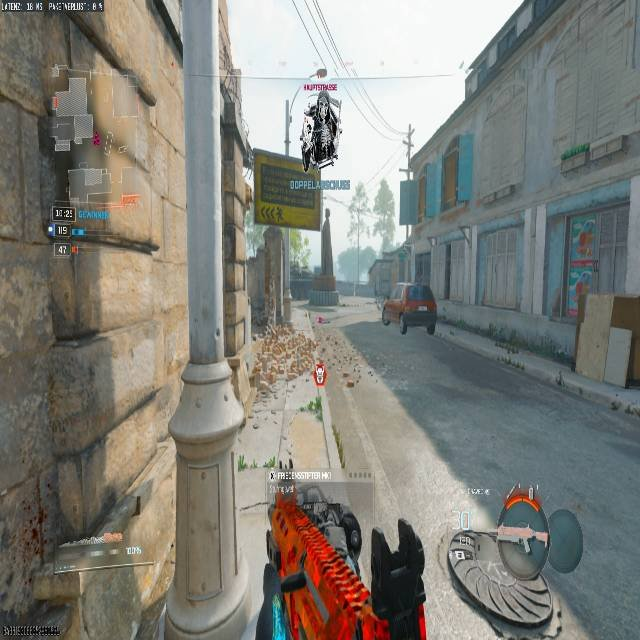head: (300, 487, 328, 521)
player: (123, 485, 414, 638), (301, 92, 341, 170)
